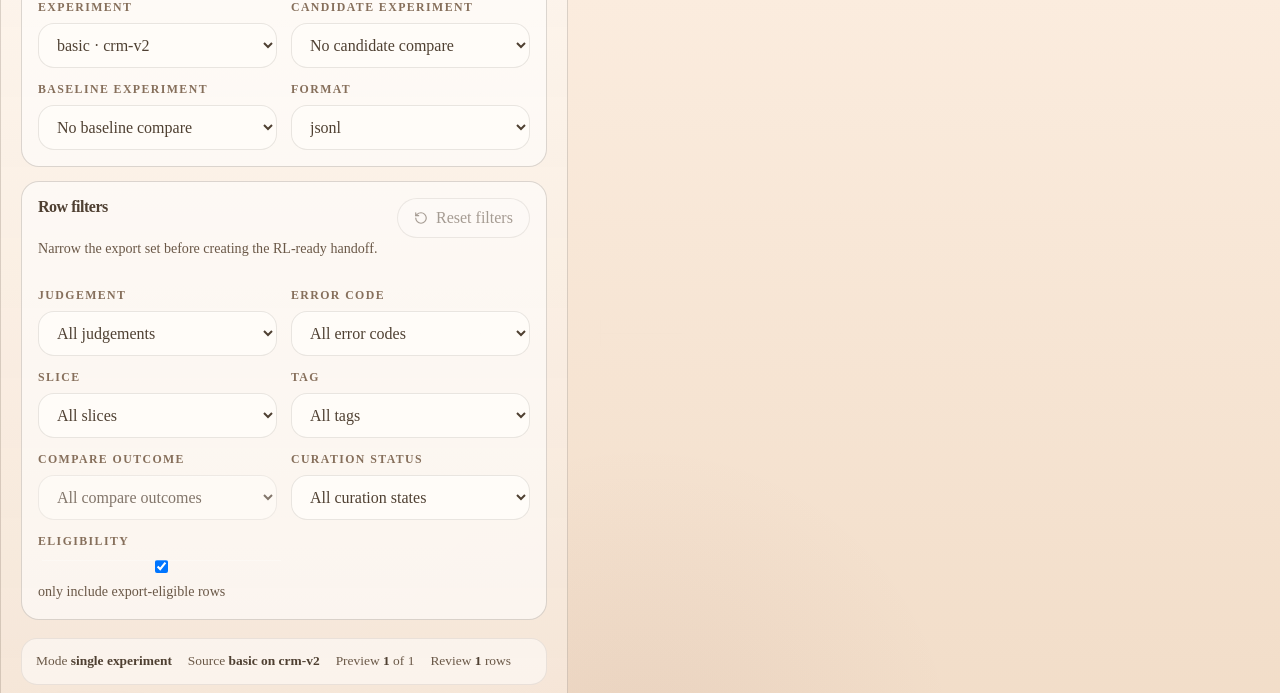
Test case: Exports workspace › creates experiment-based exports and renders export history
This screenshot has width=1280, height=693.
(page scrolled)
Step 1. Select "failed" in the dropdown labelled "Judgement" → (157, 333), box [38,311,277,356]
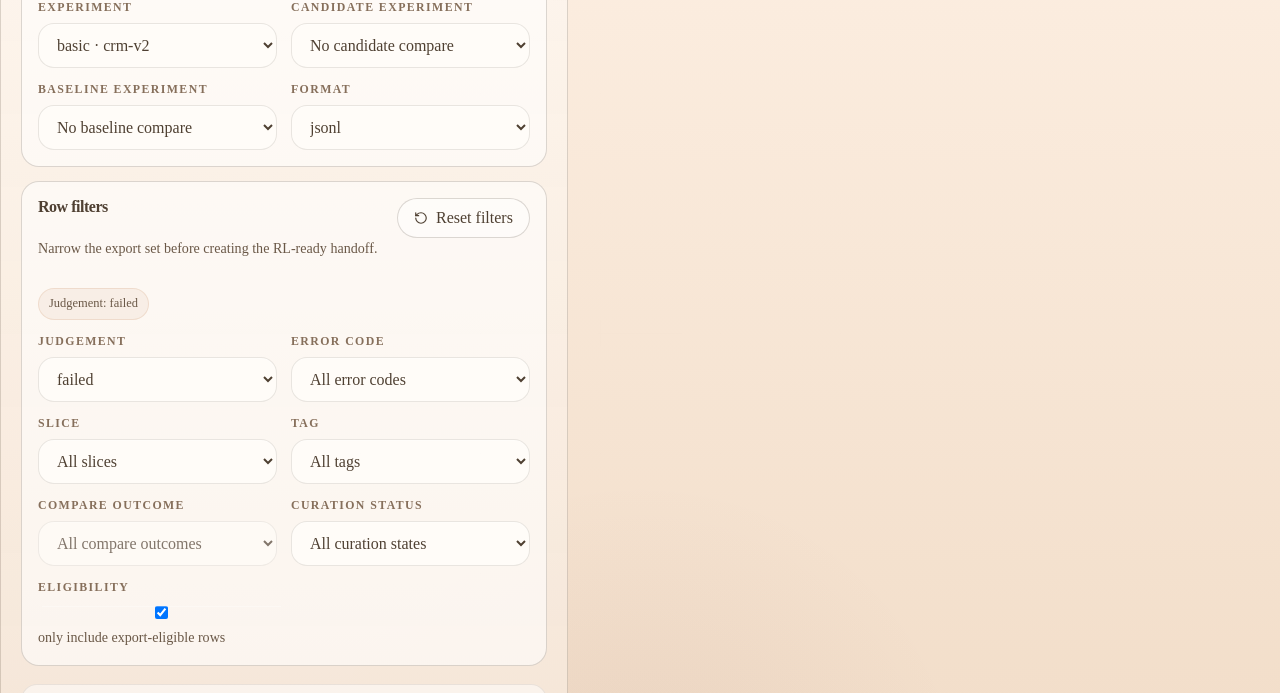
Step 2. Select "returns" in the dropdown labelled "Slice" → (157, 461), box [38,439,277,484]
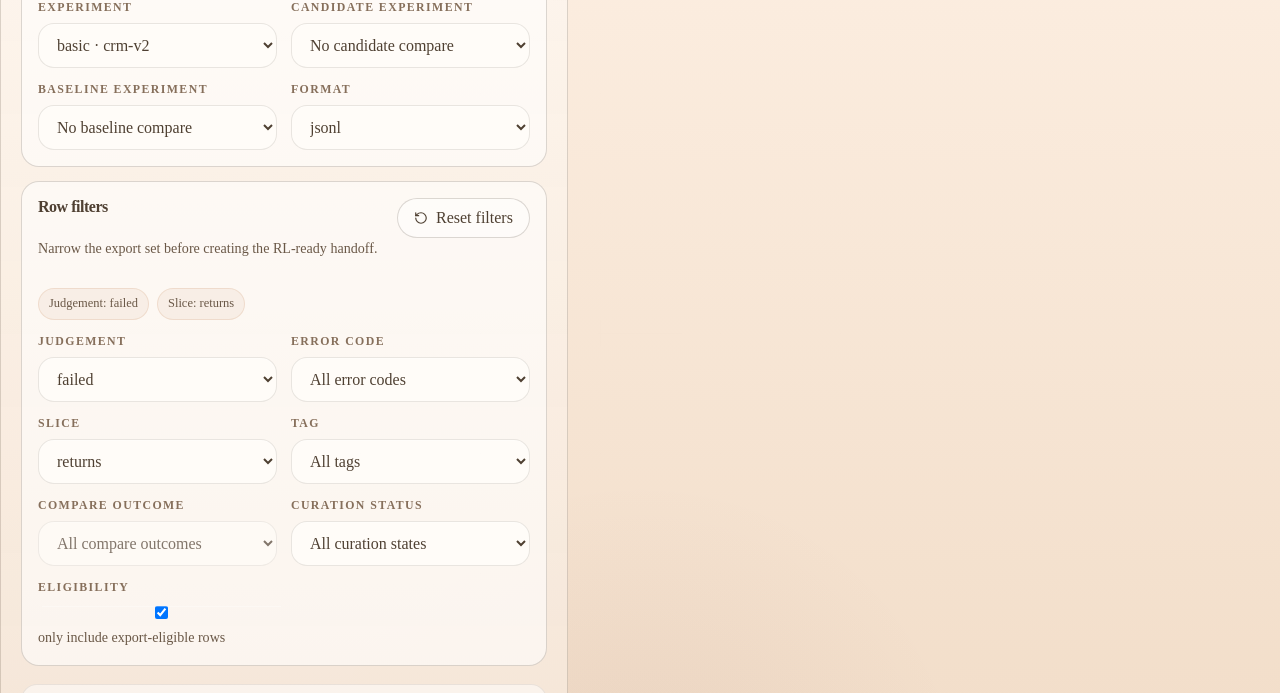
Step 3. Select "parquet" in the dropdown labelled "Format" → (410, 128), box [291,106,530,150]
(page scrolled)
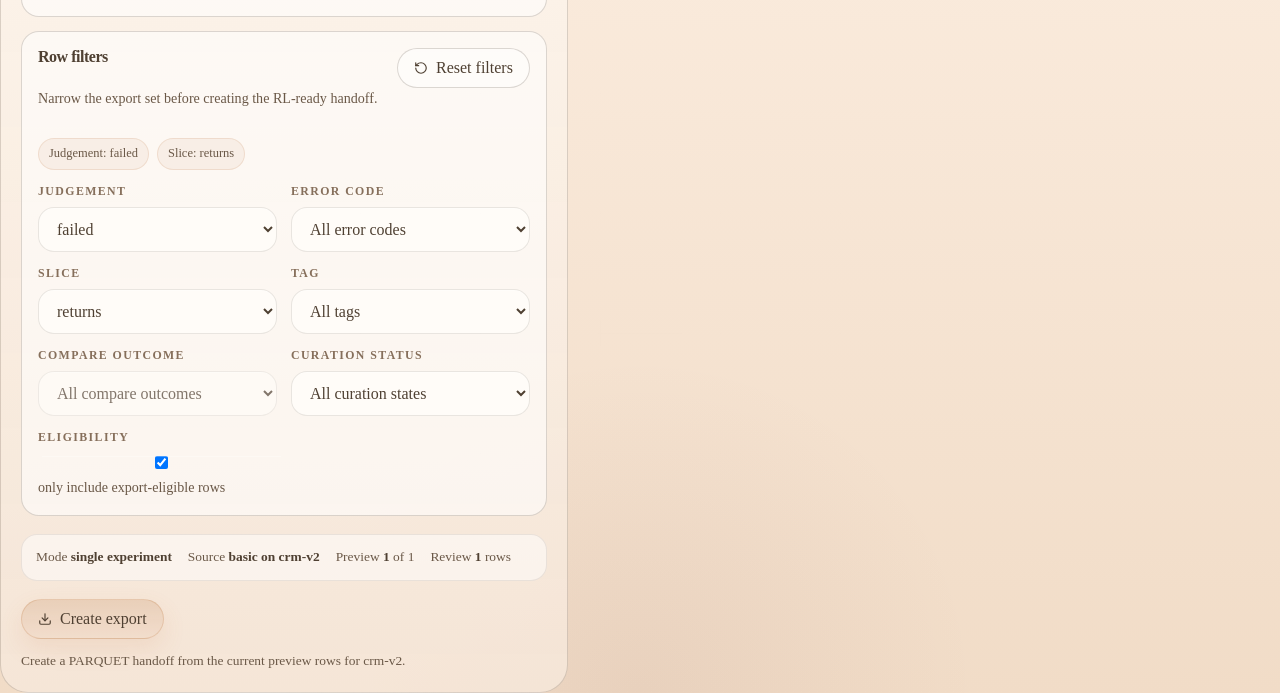
Step 4. Click the button "Create export" → (92, 619), box [21,599,164,639]
(page scrolled)
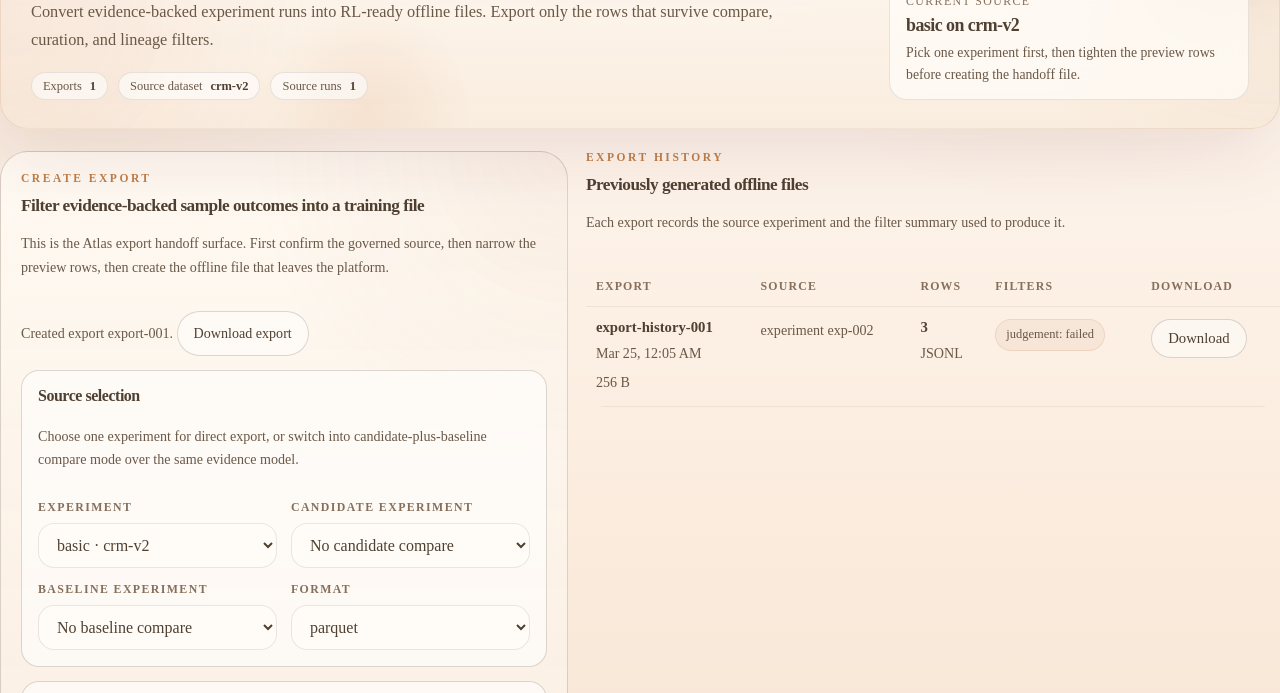
Check: the text "Created export export-001. Download export" is shown, box [21,311,309,356]
